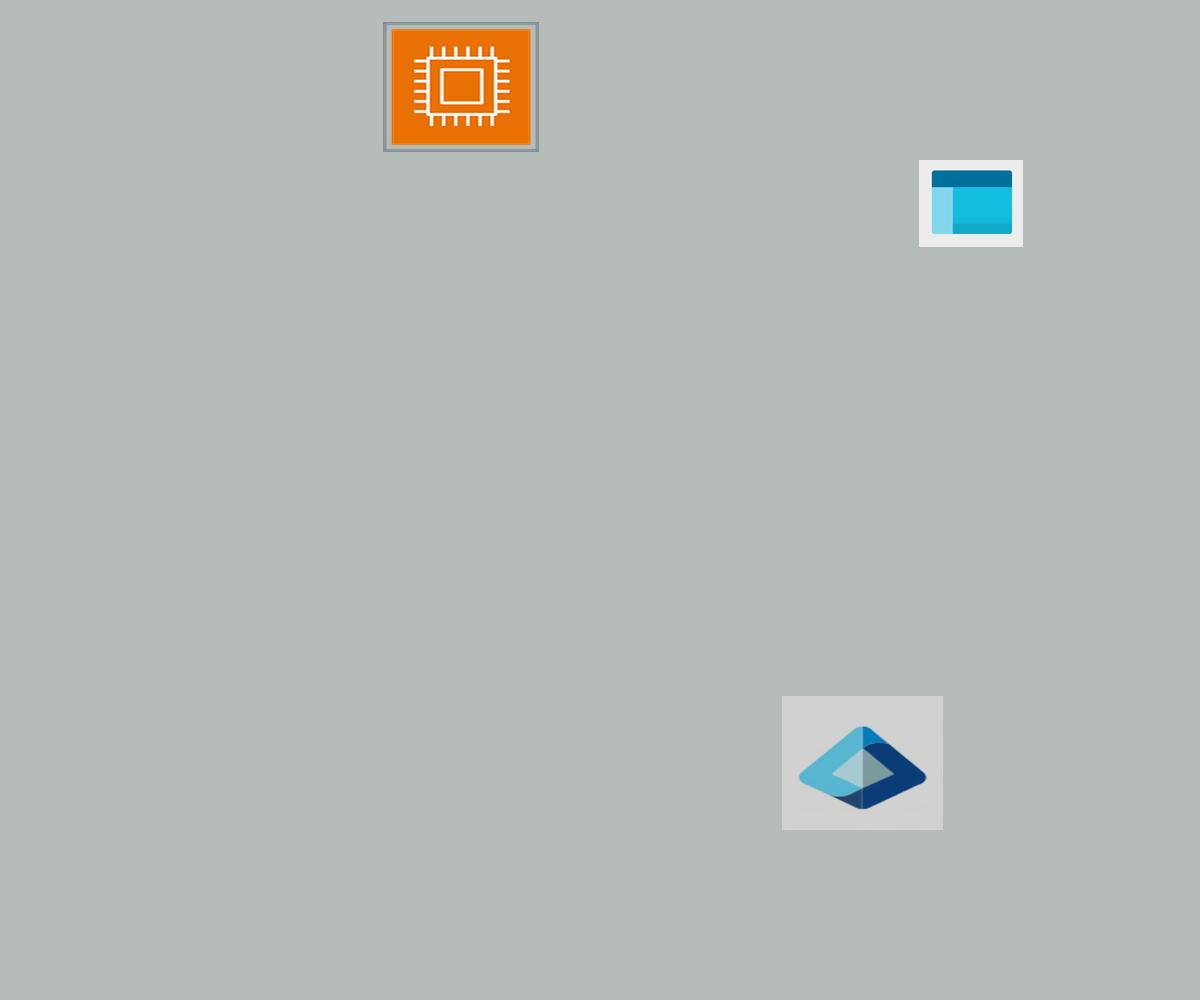AWS-Category_Compute: (383, 22, 539, 152)
Azure_management-portal: (919, 160, 1023, 247)
Azure_microsoft_entra: (782, 696, 943, 830)
